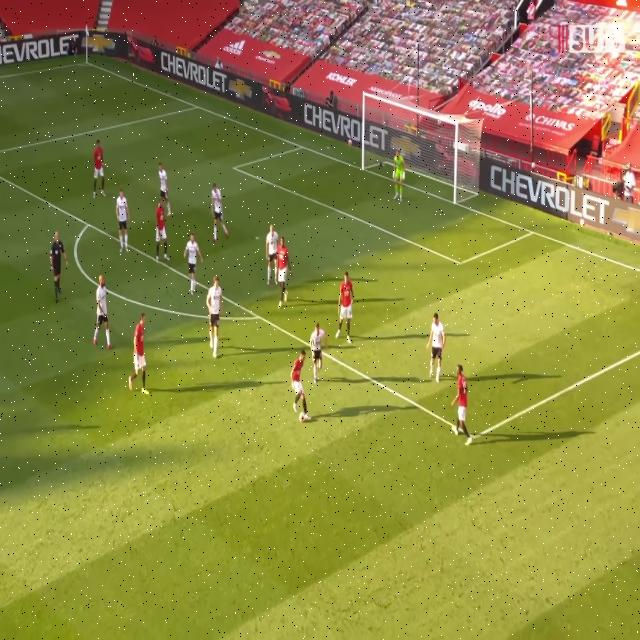GoalKeeper: (392, 148, 406, 208)
TEAM 1: (127, 310, 156, 401), (451, 360, 475, 456), (288, 348, 312, 427), (332, 268, 353, 350), (275, 234, 296, 313), (89, 138, 108, 198), (154, 196, 170, 258)
TEAM 2: (90, 270, 116, 356), (183, 230, 206, 303), (205, 183, 231, 241), (428, 314, 448, 381), (111, 183, 130, 253), (210, 276, 224, 362), (264, 220, 281, 284), (156, 160, 174, 215), (306, 324, 326, 372)
